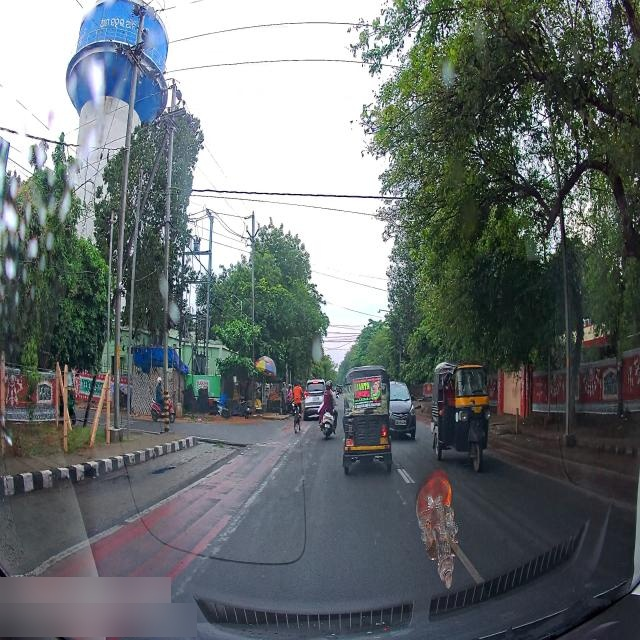pothole: (152, 464, 180, 479)
